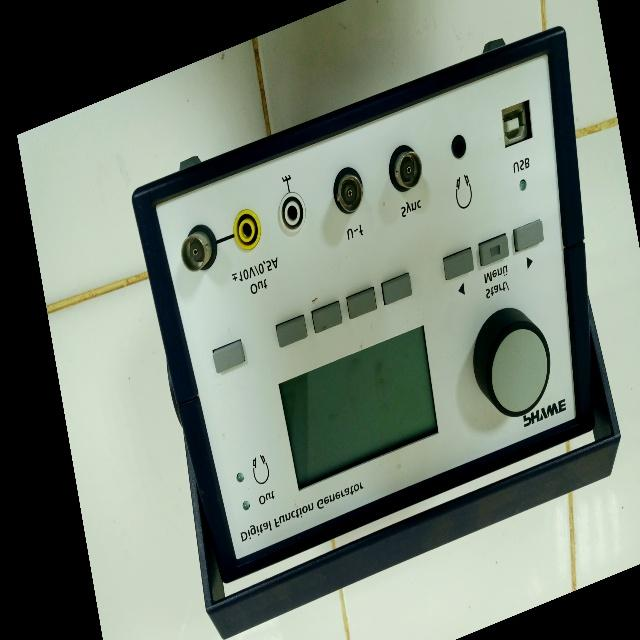Digital Function Generator: (113, 0, 640, 640)
